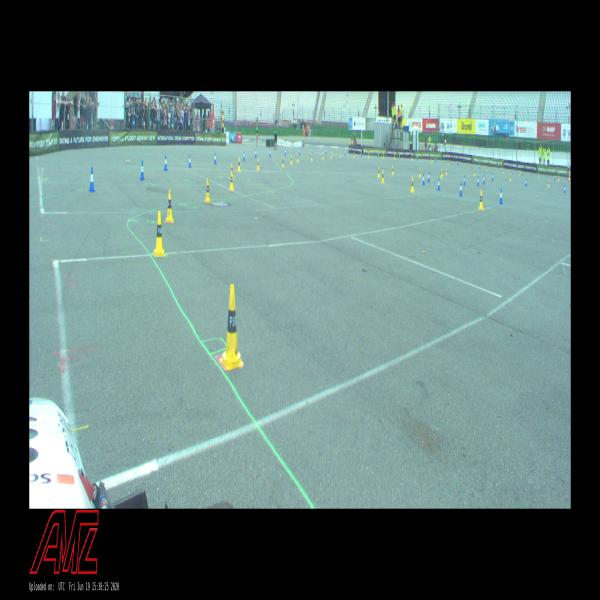blue_cone: (88, 167, 96, 193), (140, 159, 145, 181), (498, 187, 503, 205), (164, 154, 168, 171), (188, 154, 192, 168), (242, 150, 246, 163), (459, 181, 462, 197), (214, 151, 217, 165), (422, 172, 425, 185), (437, 179, 440, 190), (427, 172, 430, 182), (563, 184, 566, 194), (491, 172, 494, 181), (483, 173, 485, 186), (525, 177, 527, 188), (269, 147, 271, 158), (255, 148, 257, 159), (463, 176, 465, 186), (477, 176, 479, 186), (284, 148, 286, 157), (554, 174, 556, 182), (344, 150, 346, 158), (325, 148, 327, 156), (457, 159, 459, 167), (311, 147, 313, 154), (299, 148, 300, 156), (479, 163, 480, 170)
large_orange_cone: (568, 172, 570, 183)
yellow_cone: (219, 285, 244, 371), (153, 210, 166, 257), (165, 189, 174, 223), (204, 178, 211, 204), (478, 190, 484, 210), (229, 170, 234, 192), (410, 176, 415, 194), (230, 162, 234, 180), (237, 156, 241, 173), (256, 158, 260, 171), (473, 167, 476, 178), (282, 157, 285, 168), (547, 178, 550, 189), (391, 166, 394, 176), (382, 170, 384, 183), (378, 166, 380, 178), (393, 152, 396, 160), (290, 154, 292, 165), (440, 168, 442, 179), (296, 152, 298, 163), (419, 168, 421, 178), (509, 172, 511, 182), (322, 151, 324, 161), (519, 168, 521, 178), (310, 152, 312, 162), (502, 166, 504, 176), (445, 167, 447, 176), (330, 151, 332, 160), (558, 174, 560, 183), (411, 153, 413, 162), (339, 151, 341, 159), (353, 151, 355, 159), (431, 156, 433, 164), (368, 152, 370, 160), (447, 159, 449, 167), (467, 163, 469, 170), (486, 166, 488, 173), (538, 172, 540, 179), (383, 152, 384, 160)
